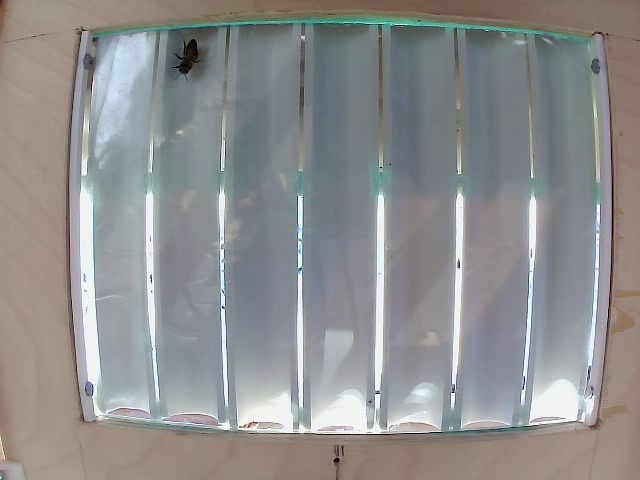bee: (167, 29, 209, 81)
